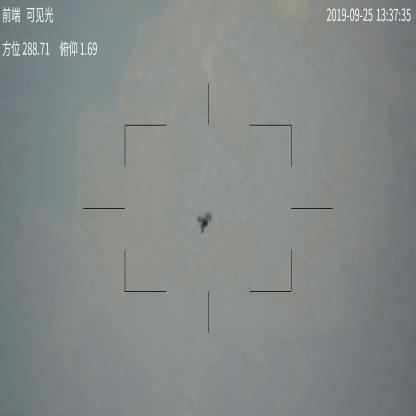uav: (197, 212, 214, 233)
